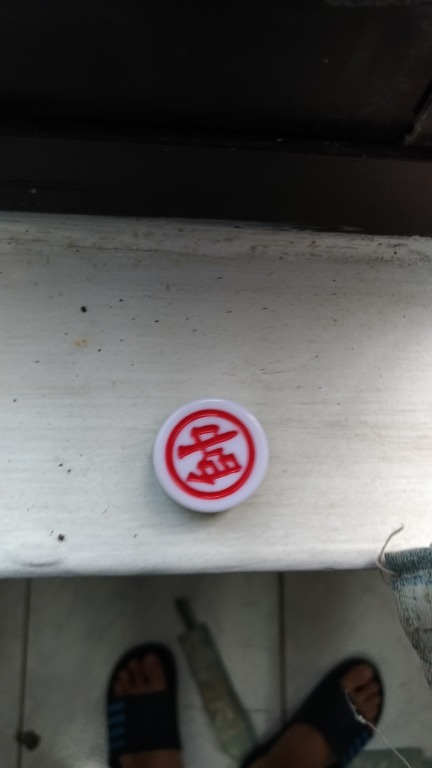r-king: (148, 399, 280, 517)
